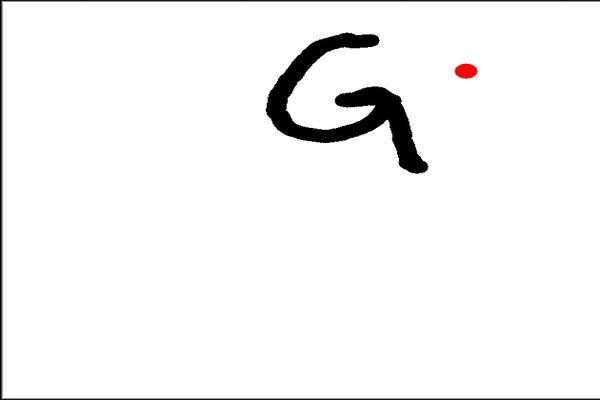G: (262, 25, 436, 177)
